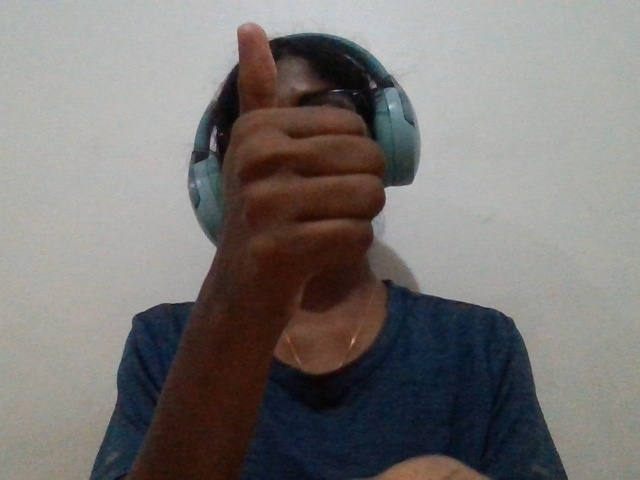Help: (86, 20, 437, 375)
